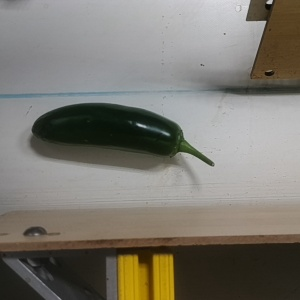Cut Point: (161, 118, 192, 162)
